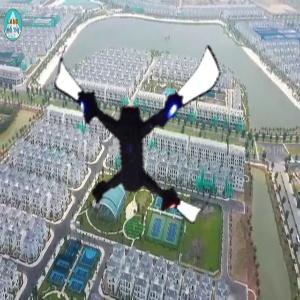drone: (38, 34, 225, 221)
